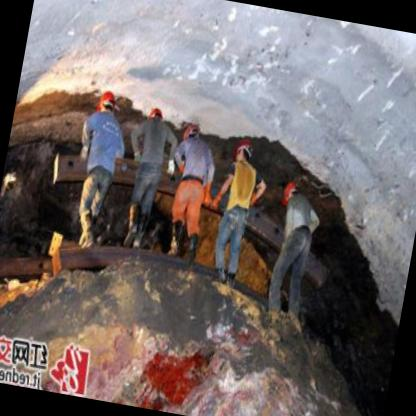helmet: (90, 84, 119, 122), (230, 135, 256, 167), (178, 119, 204, 150), (278, 178, 300, 209), (145, 101, 167, 126)
